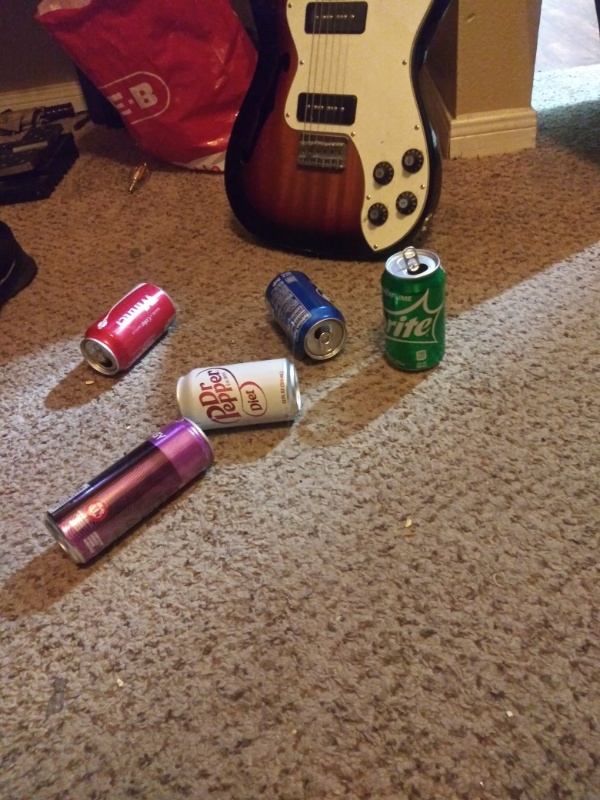can: (42, 412, 218, 571), (172, 355, 304, 437), (79, 276, 178, 381), (380, 245, 452, 373), (258, 266, 350, 365)
